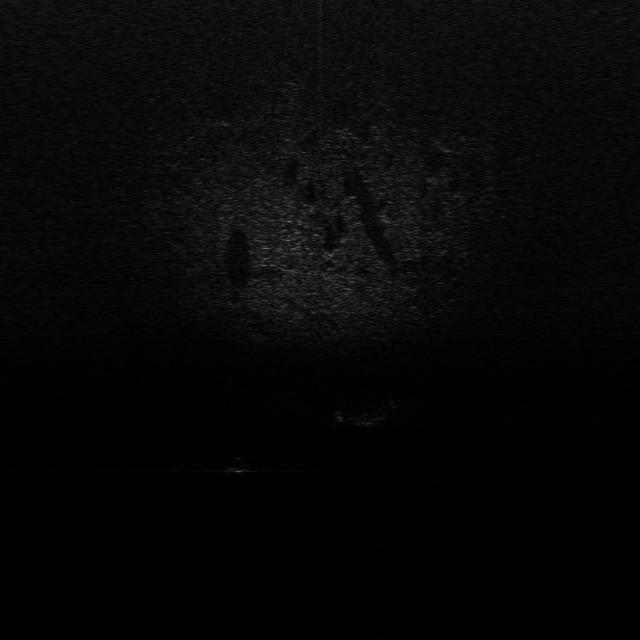ball: (224, 451, 260, 476)
human body: (333, 400, 406, 427)
